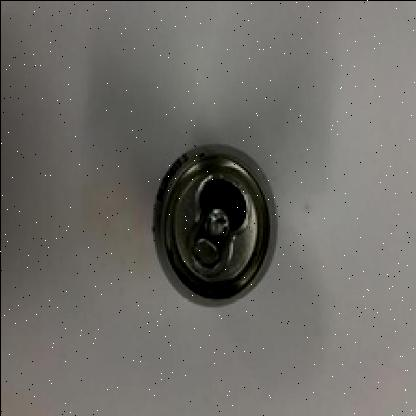Can: (146, 138, 281, 309)
